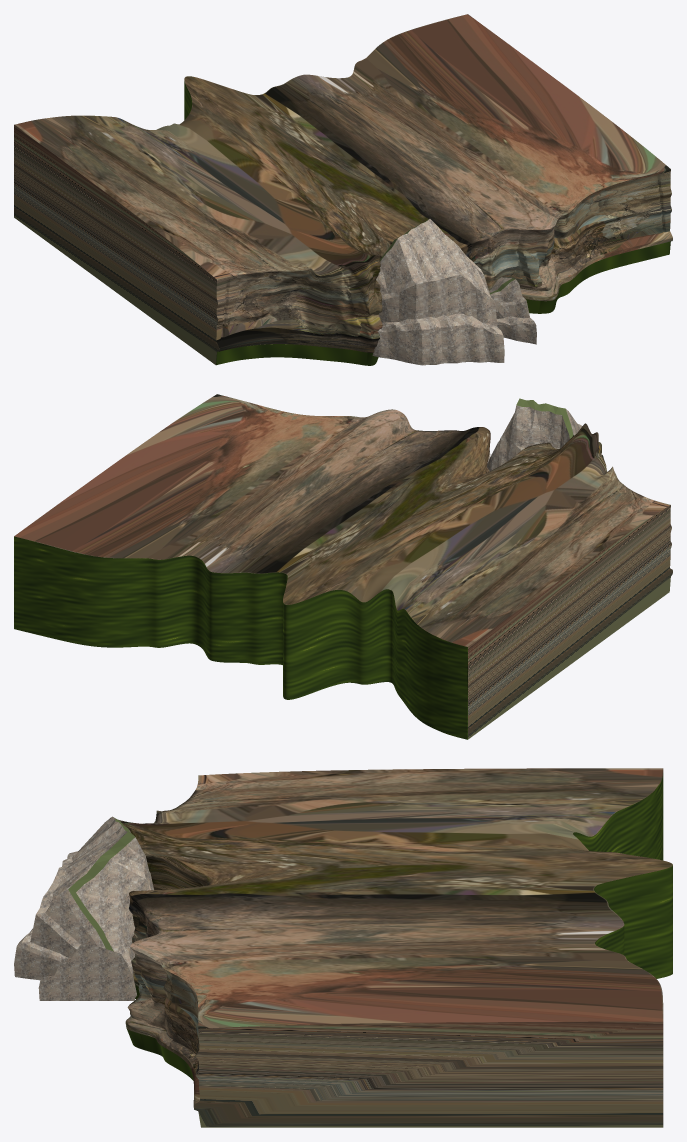
File: cliff-blueprint.glb
3 renders of one model, top to bottom at view 1: azimuth 30°, elevation 25°; view 2: azimuth 150°, elevation 25°; view 3: azimuth 270°, elevation 25°, orthographic. The views are drawn at different scales.
Parts seen in each view (by area): view 1: Sunset headland | integrated bedrock and meadow; view 2: Sunset headland | integrated bedrock and meadow; view 3: Sunset headland | integrated bedrock and meadow.
Boxes of the visible parts, x1,y1,x2,y2 form: Sunset headland | integrated bedrock and meadow: (14,14,672,365); Sunset headland | integrated bedrock and meadow: (14,394,672,739); Sunset headland | integrated bedrock and meadow: (14,768,672,1127).
Bounding box in the file's own units: 40 × 10.59 × 43.94.
4 materials, 3 textured.
